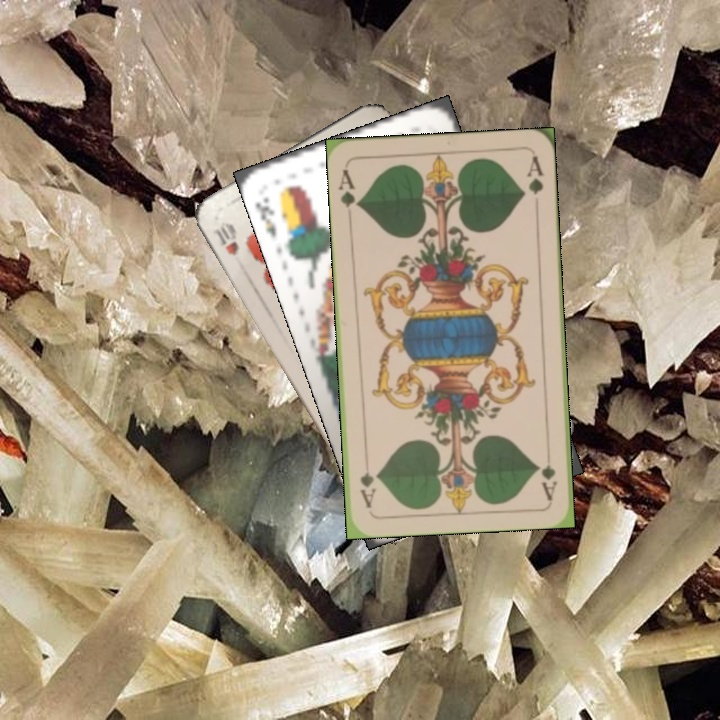EK: (252, 193, 280, 240)
GA: (537, 443, 559, 502), (335, 165, 363, 211)
H10: (208, 217, 242, 258)
